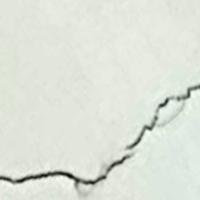crack: (1, 82, 200, 191)
